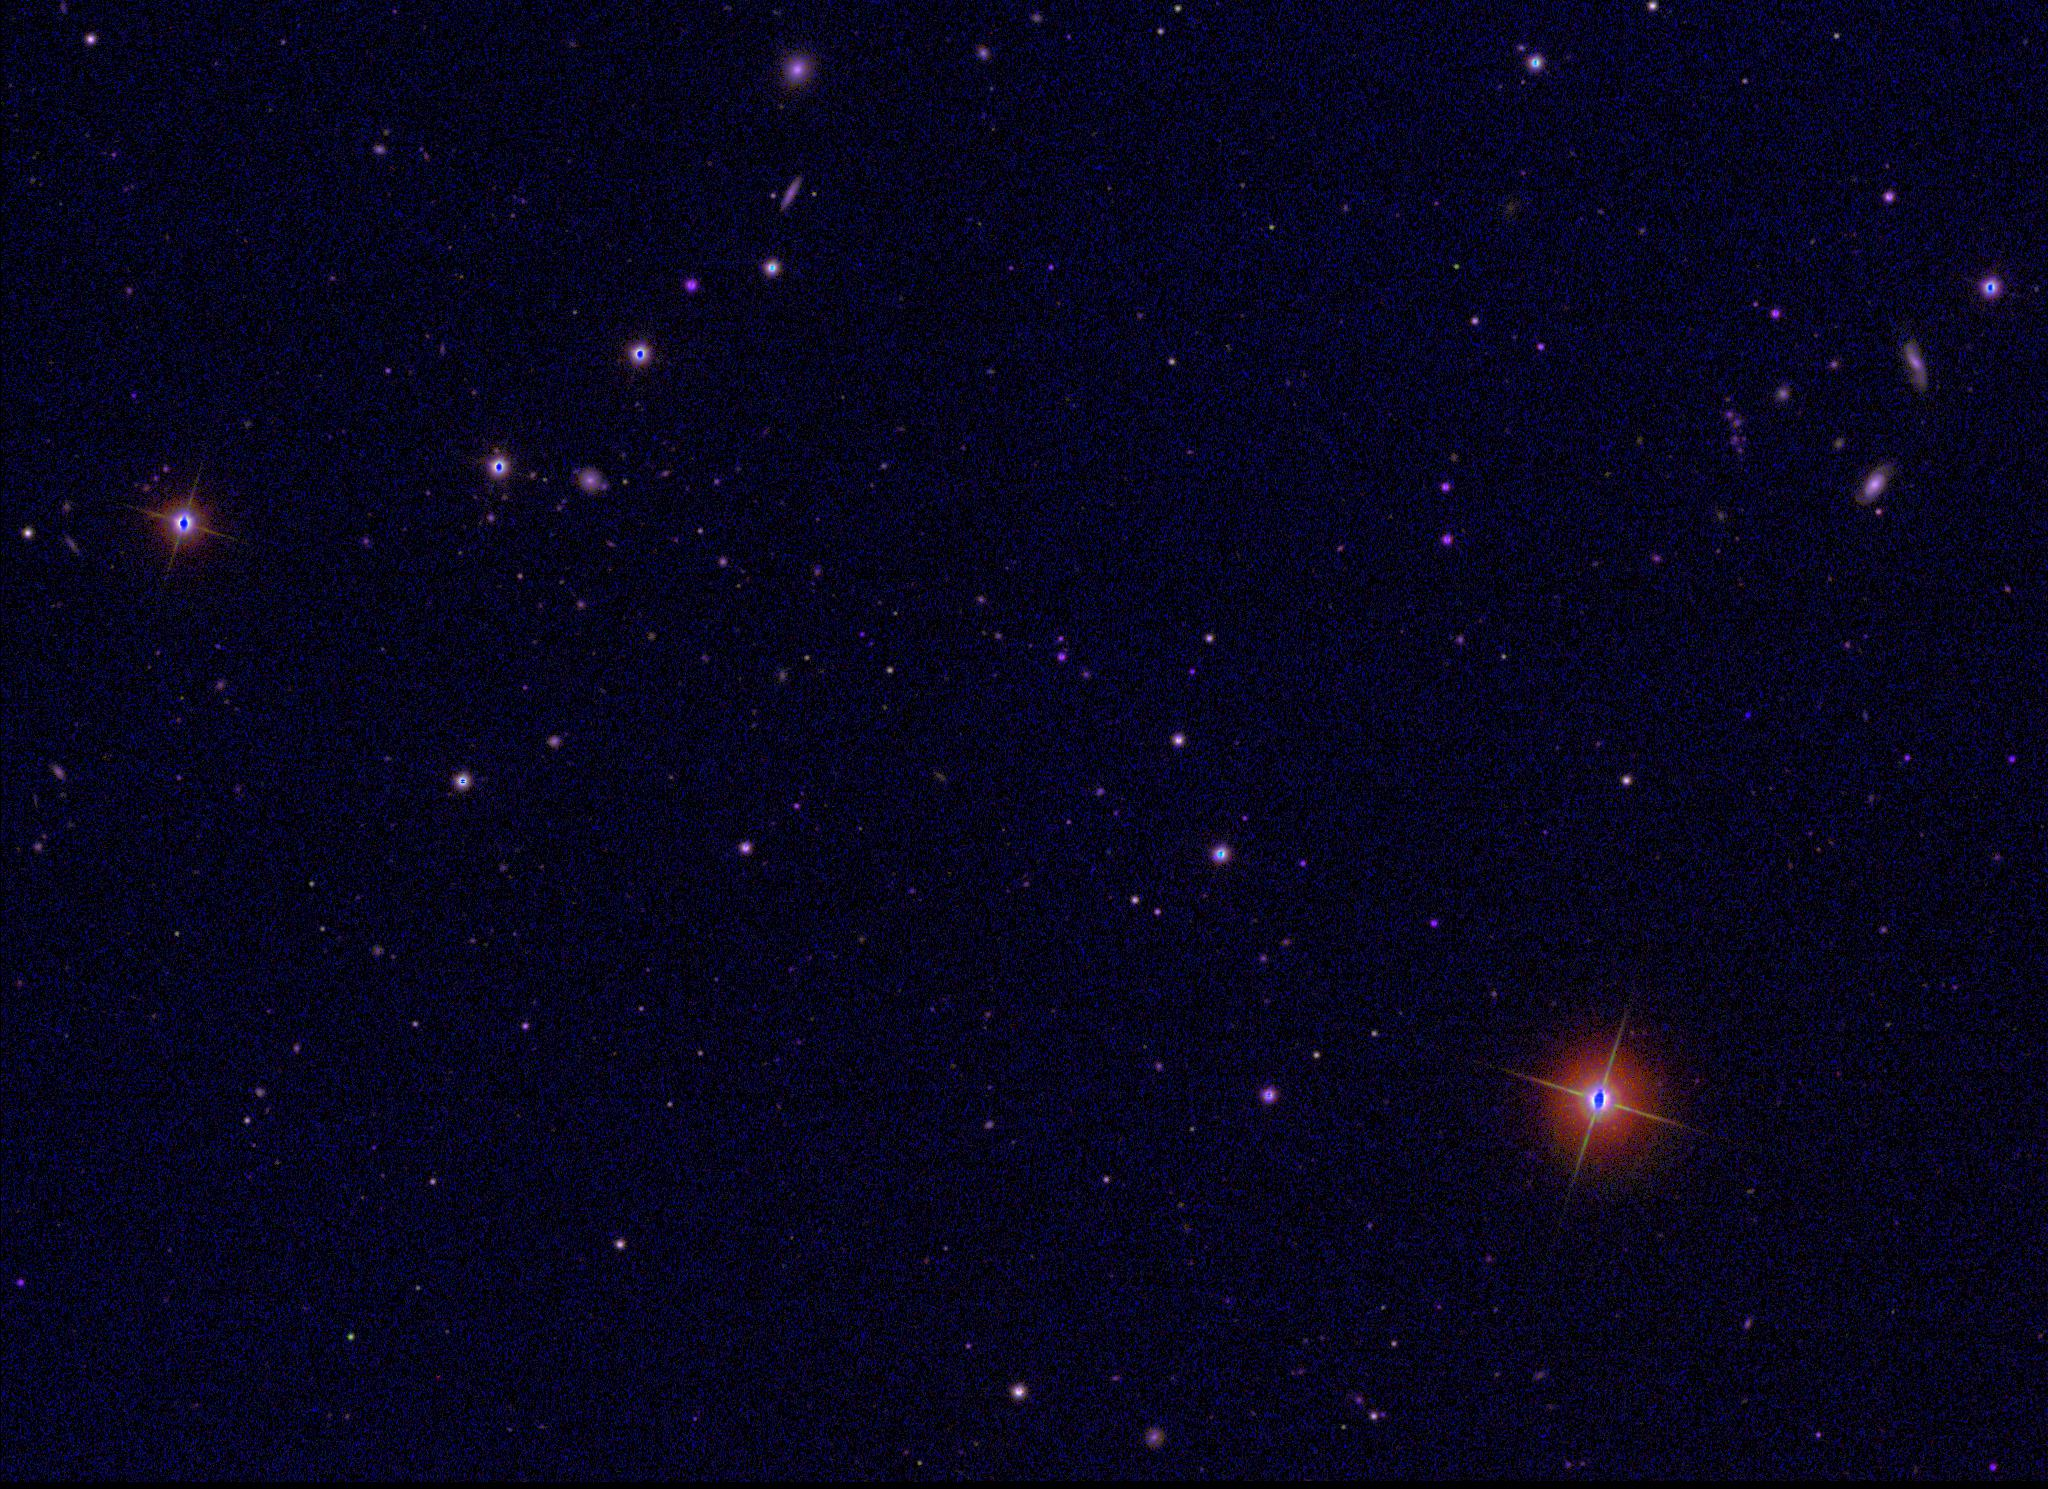L: (1741, 706, 1755, 721)
